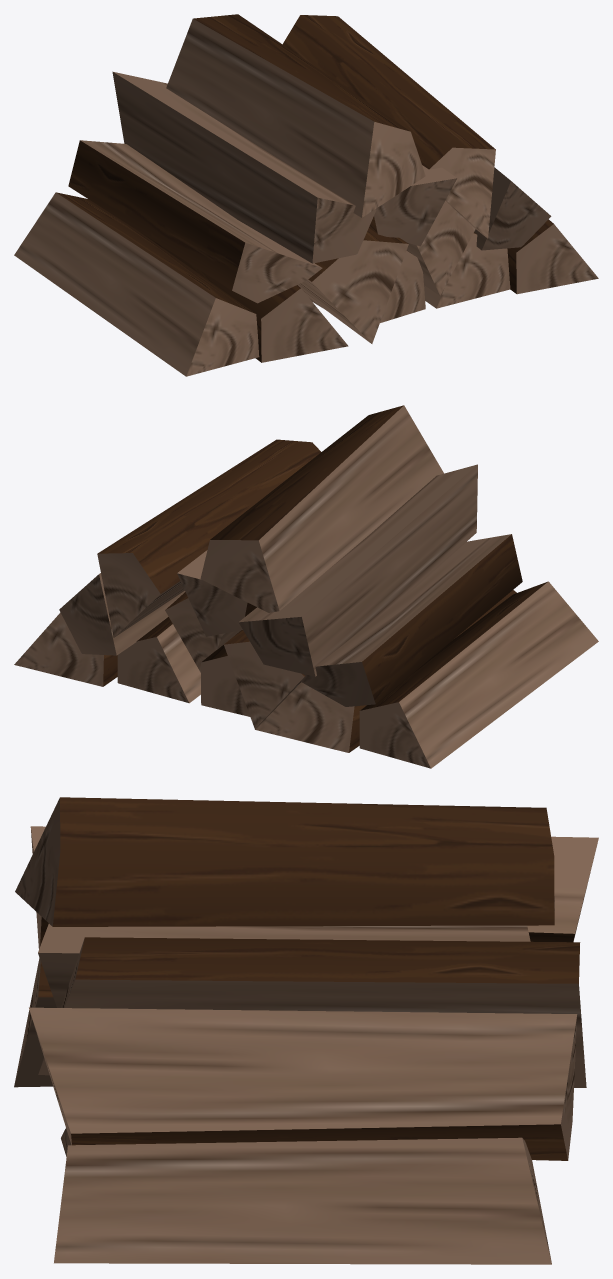
The model's file is SM_PROP_logpile_city_01.fbx.
3 views of the same model, one above another, from view 1: azimuth 30°, elevation 25°; view 2: azimuth 150°, elevation 25°; view 3: azimuth 270°, elevation 25° (orthographic). The views are drawn at different scales.
Parts seen in each view (by area): view 1: SM_PROP_logpile_city_01; view 2: SM_PROP_logpile_city_01; view 3: SM_PROP_logpile_city_01.
Boxes of the visible parts, x1,y1,x2,y2 form: SM_PROP_logpile_city_01: [14, 14, 598, 376]; SM_PROP_logpile_city_01: [14, 405, 598, 768]; SM_PROP_logpile_city_01: [14, 797, 598, 1264].
Bounding box in the file's own units: 87.91 × 41.21 × 70.48.
